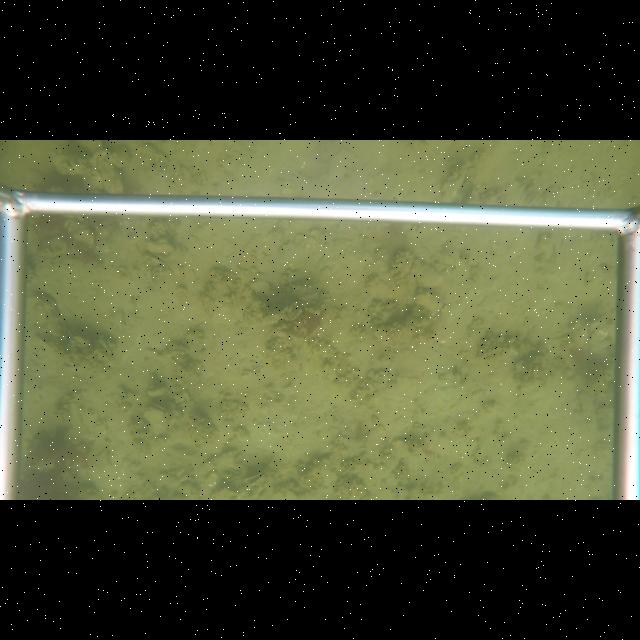Oyster-Open: (143, 402, 168, 437), (148, 252, 165, 266)
